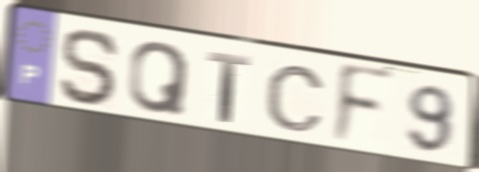9: (402, 83, 462, 155)
C: (264, 63, 328, 134)
F: (329, 60, 398, 149)
Q: (125, 39, 191, 118)
S: (57, 26, 122, 109)
T: (205, 48, 252, 126)
